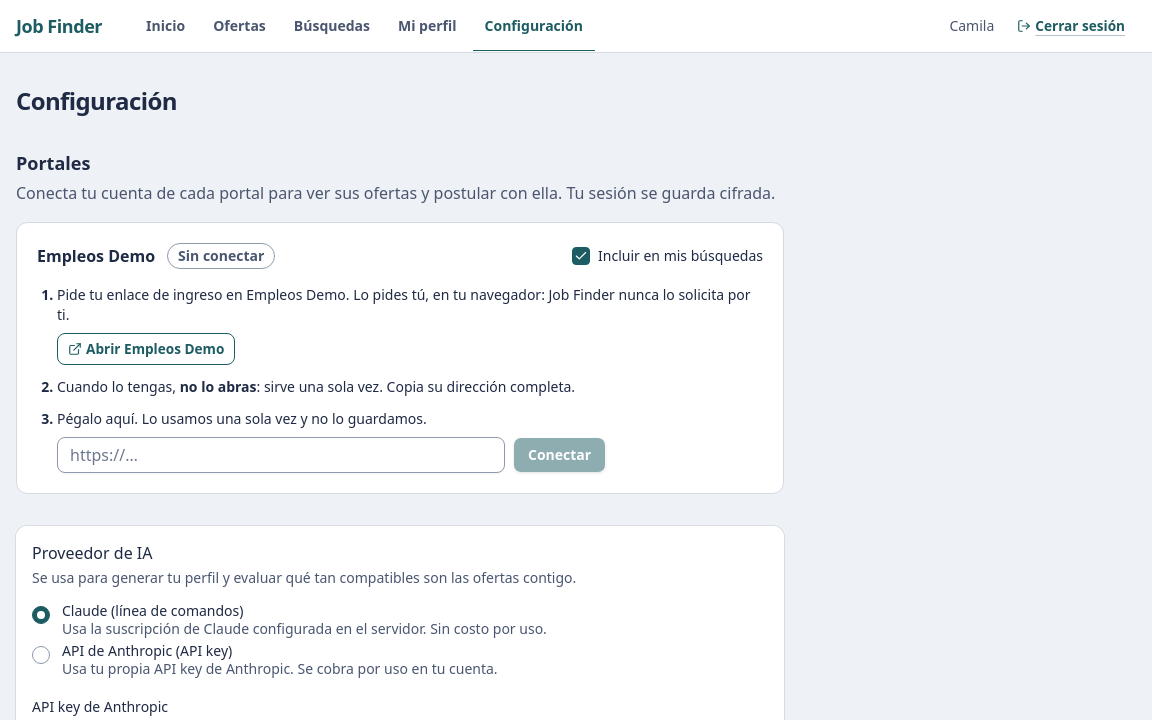
Configuración: portales › muestra el motivo si el enlace no sirve
Type "http://localhost:4100/ingresar/enlace?token=abc" into the password field named "Enlace de ingreso de Empleos Demo" at coordinates (281, 455), box [57,437,505,473]
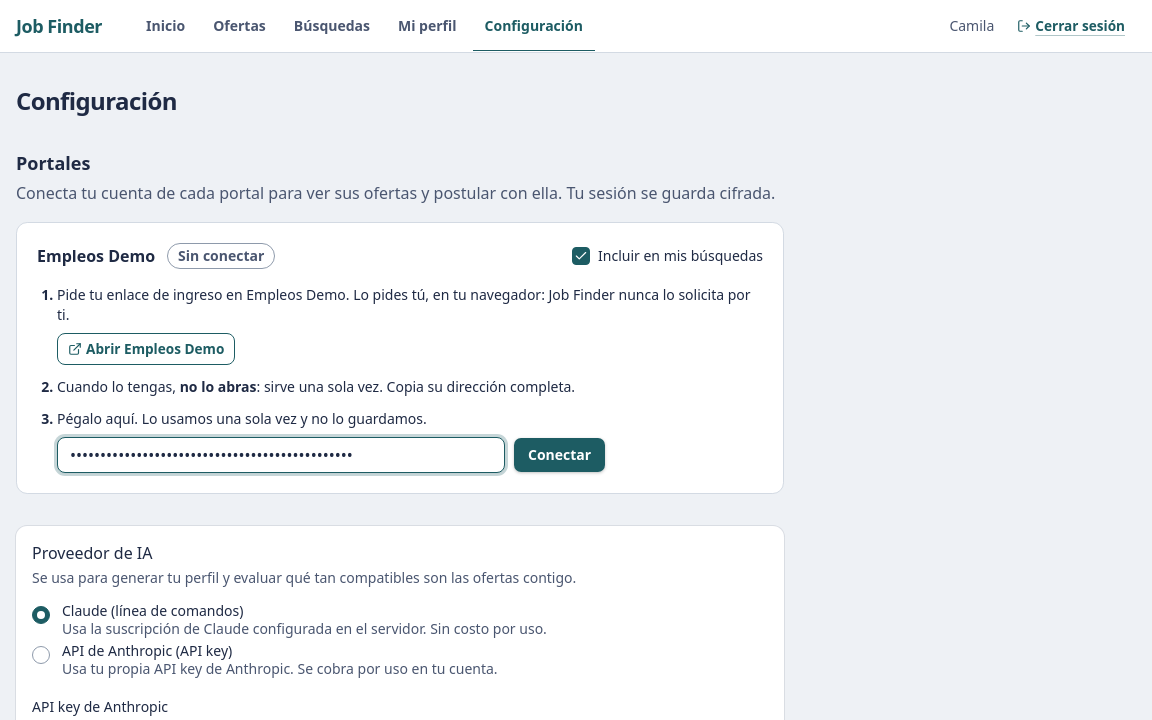
Click the button "Conectar" at coordinates (560, 455), box [513,437,606,473]
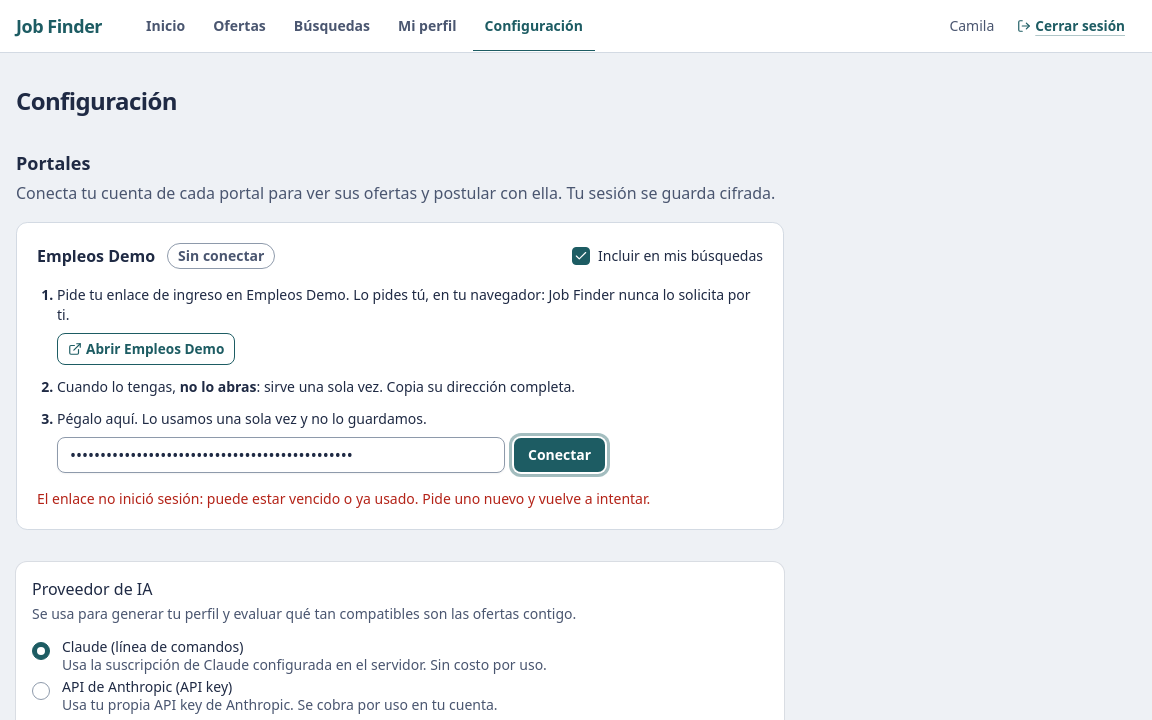
Now the message shows "Pide uno nuevo", box [37,489,650,508]
